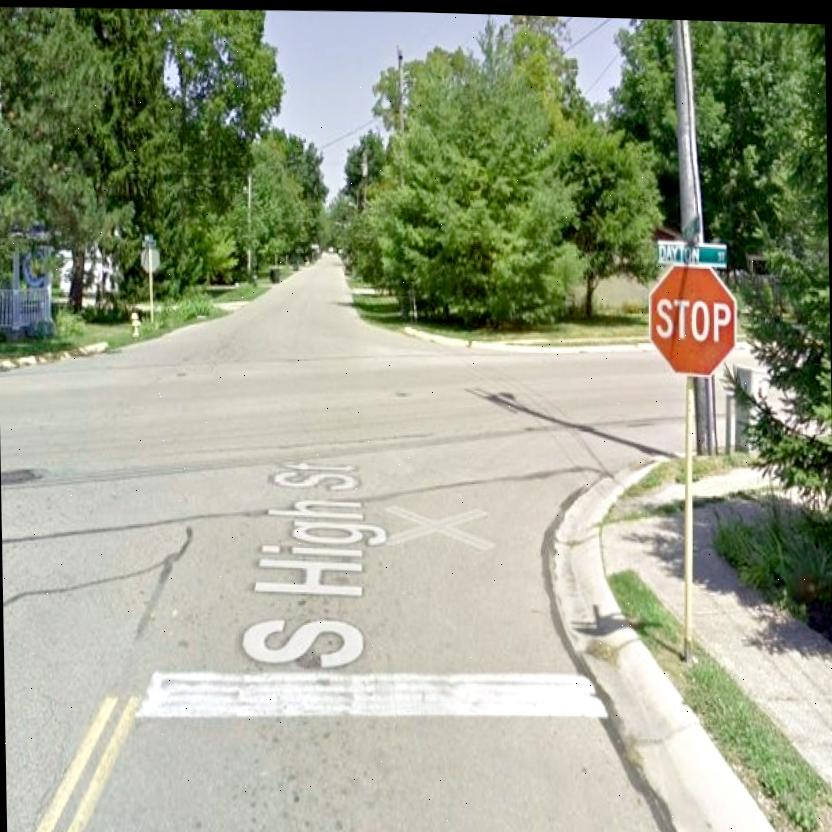Pole: (681, 374, 701, 656)
Sign: (648, 259, 738, 375)
